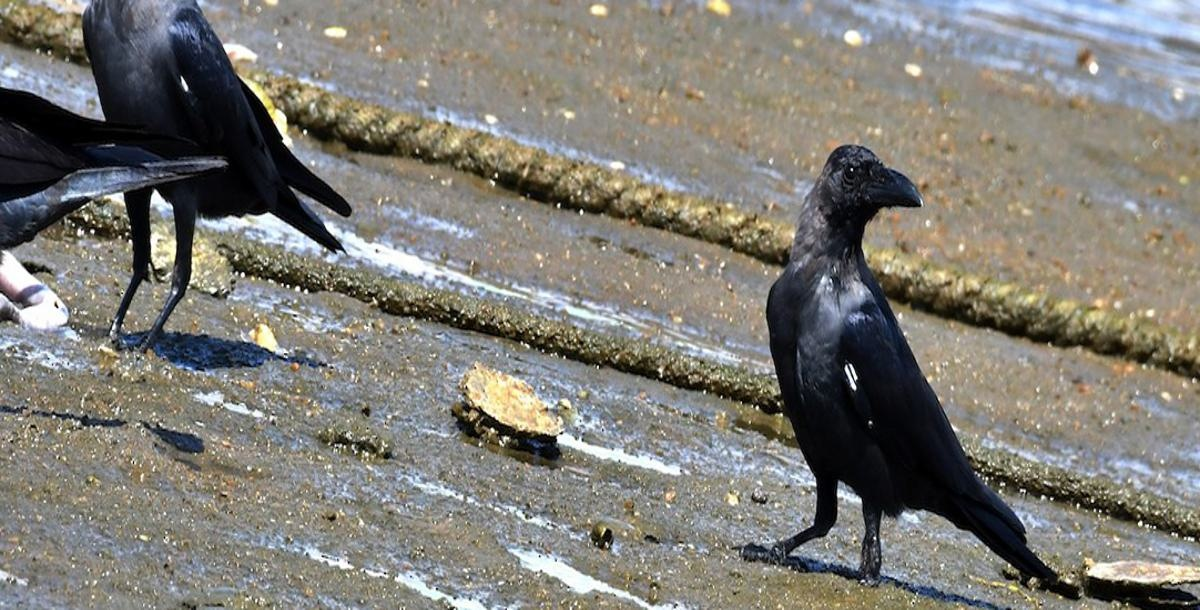crow: (756, 136, 1060, 591)
